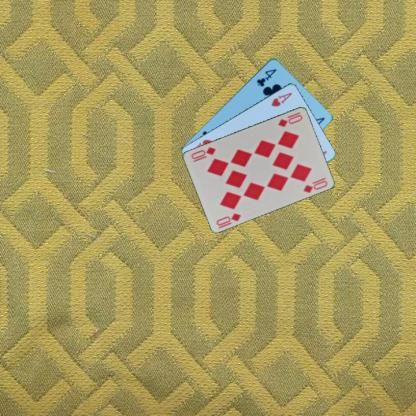10d: (275, 109, 304, 128), (214, 210, 242, 226)
4c: (254, 66, 278, 88)
Ah: (269, 90, 293, 107)
